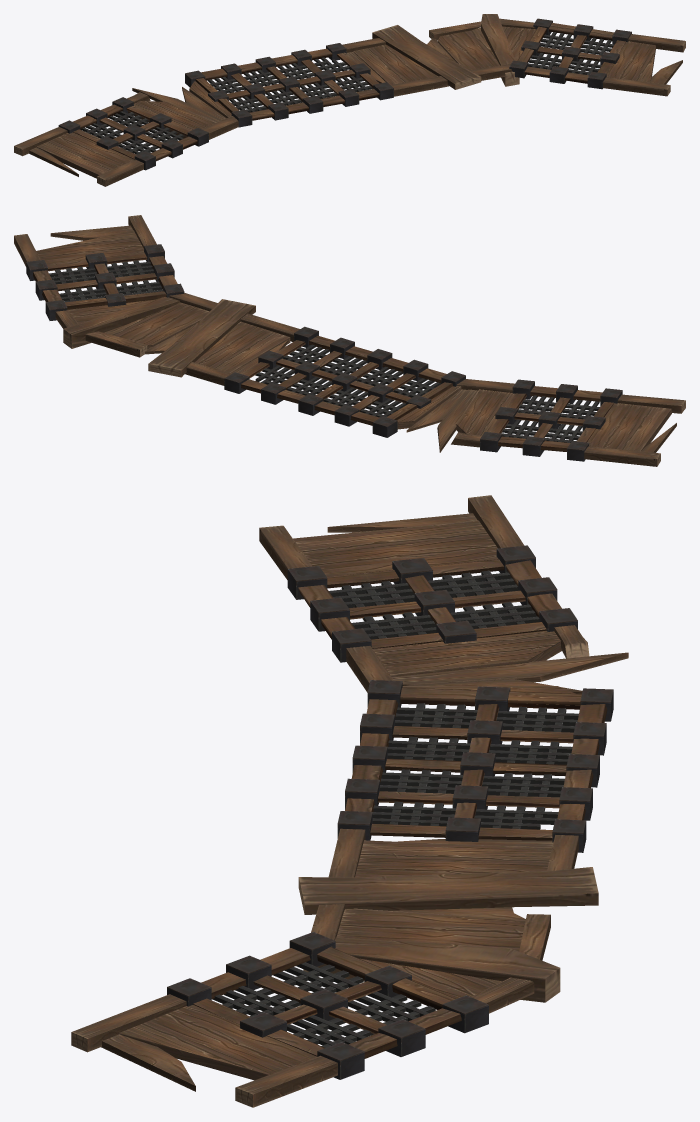
The model's file is Anmaodao_qiao02.FBX.
The picture shows the model from 3 angles, top to bottom: view 1: azimuth 30°, elevation 25°; view 2: azimuth 150°, elevation 25°; view 3: azimuth 270°, elevation 25°; orthographic projection. The views are drawn at different scales.
Visible parts, largest first — view 1: Anmaodao_qiao02; view 2: Anmaodao_qiao02; view 3: Anmaodao_qiao02.
Part boxes in pixels (<box>): Anmaodao_qiao02: <box>14,14,685,186</box>; Anmaodao_qiao02: <box>14,215,685,466</box>; Anmaodao_qiao02: <box>71,495,628,1107</box>.
Size of the model in its own units: 1106 by 436 by 33.59.
